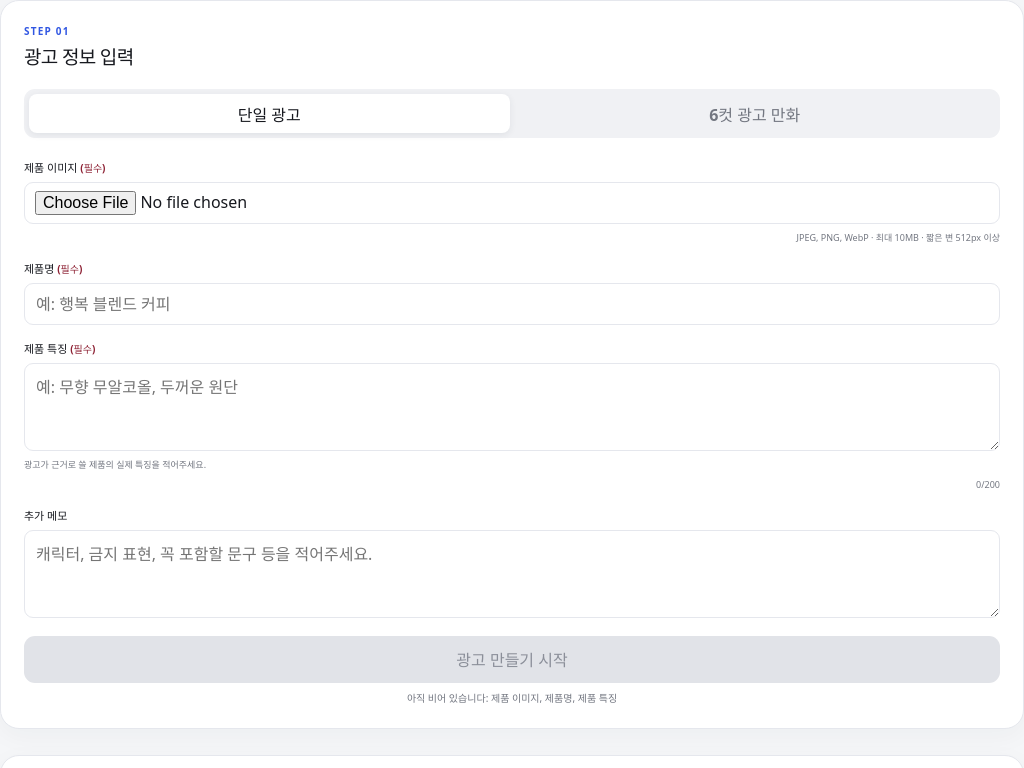
Test case: 시작 버튼 › 채운 것은 안내에서 빠진다
In the field with placeholder "예: 행복 블렌드 커피": (512, 304) [24,282,1000,324], type "행복 블렌드 커피"
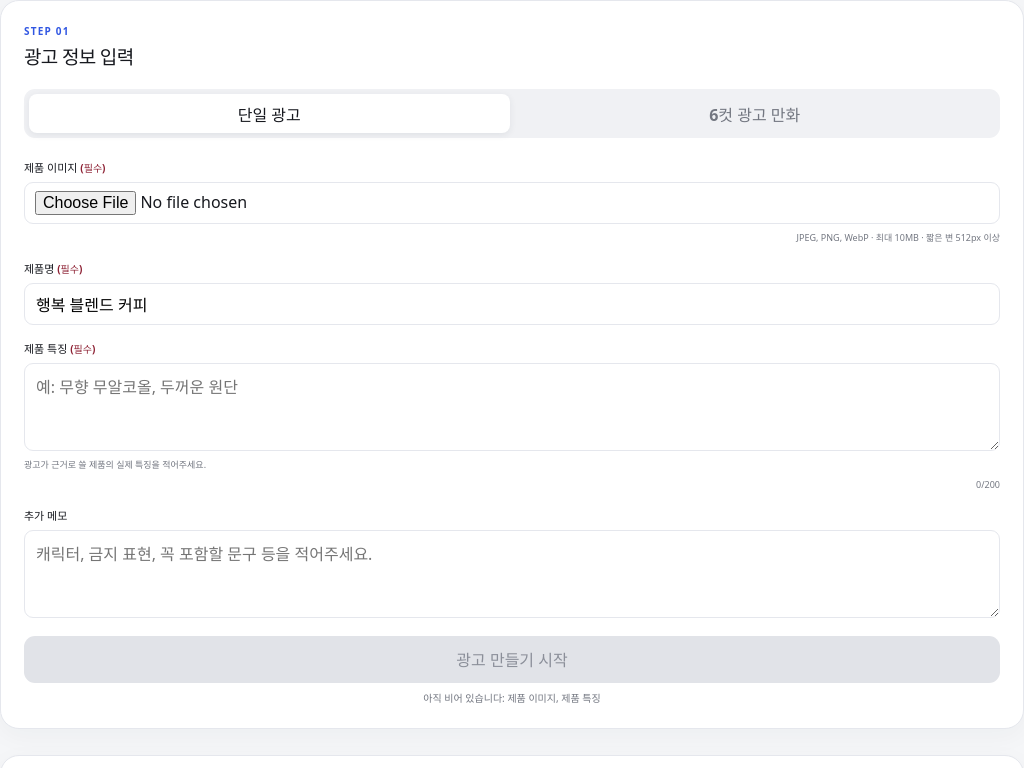
Check: the text "아직 비어 있습니다: 제품 이미지, 제품 특징" is shown, box [423,690,601,704]
Check: the text "아직 비어 있습니다: 제품 이미지, 제품 특징" no longer shows "제품명,", box [423,690,601,704]
